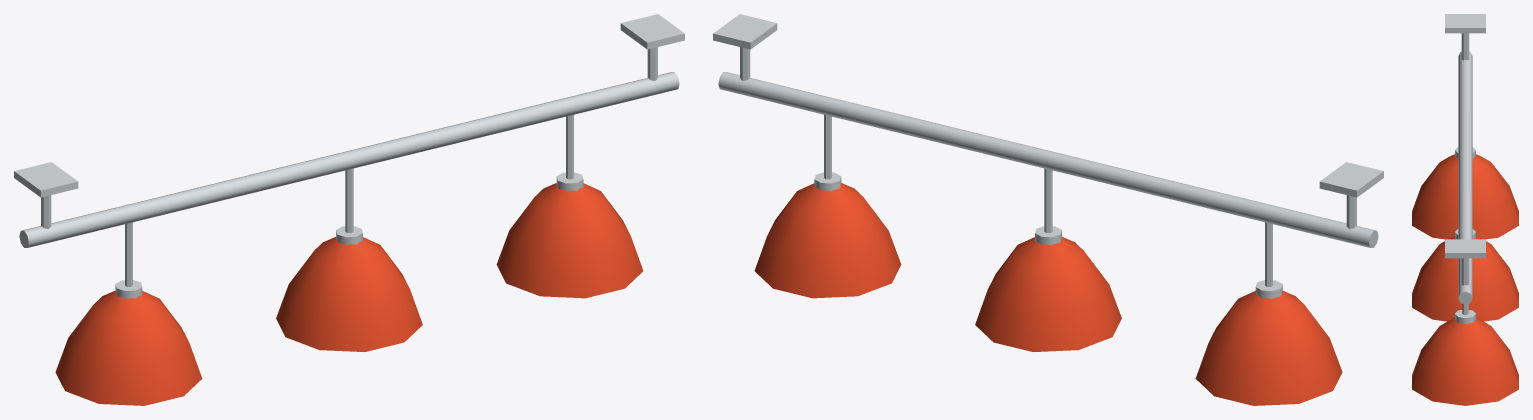
File: Shop_HeatLamp.fbx
The picture shows the model from 3 angles, left to right: view 1: azimuth 30°, elevation 25°; view 2: azimuth 150°, elevation 25°; view 3: azimuth 270°, elevation 25°; orthographic projection. The views are drawn at different scales.
Parts seen in each view (by area): view 1: Shades, Chrome; view 2: Shades, Chrome; view 3: Shades, Chrome.
Boxes of the visible parts, left/top/right/bottom form: Shades: left=55, top=183, right=643, bottom=405; Chrome: left=14, top=14, right=684, bottom=298; Shades: left=754, top=183, right=1342, bottom=405; Chrome: left=713, top=14, right=1383, bottom=298; Shades: left=1412, top=154, right=1518, bottom=405; Chrome: left=1445, top=14, right=1485, bottom=323.
Bounding box in the file's own units: 590 × 203 × 110.
